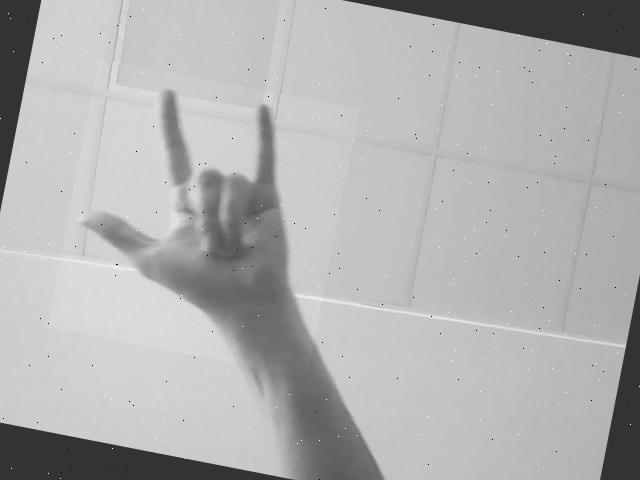I_Love_You: (66, 71, 323, 359)
